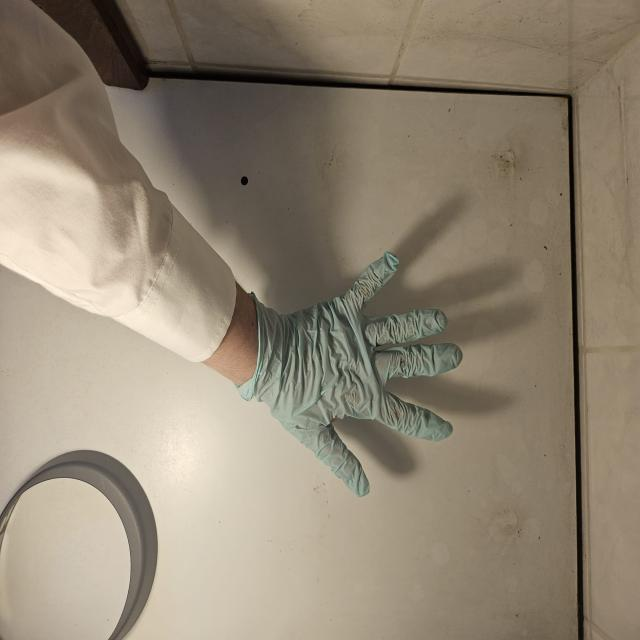gloves_damaged: (244, 251, 466, 492)
